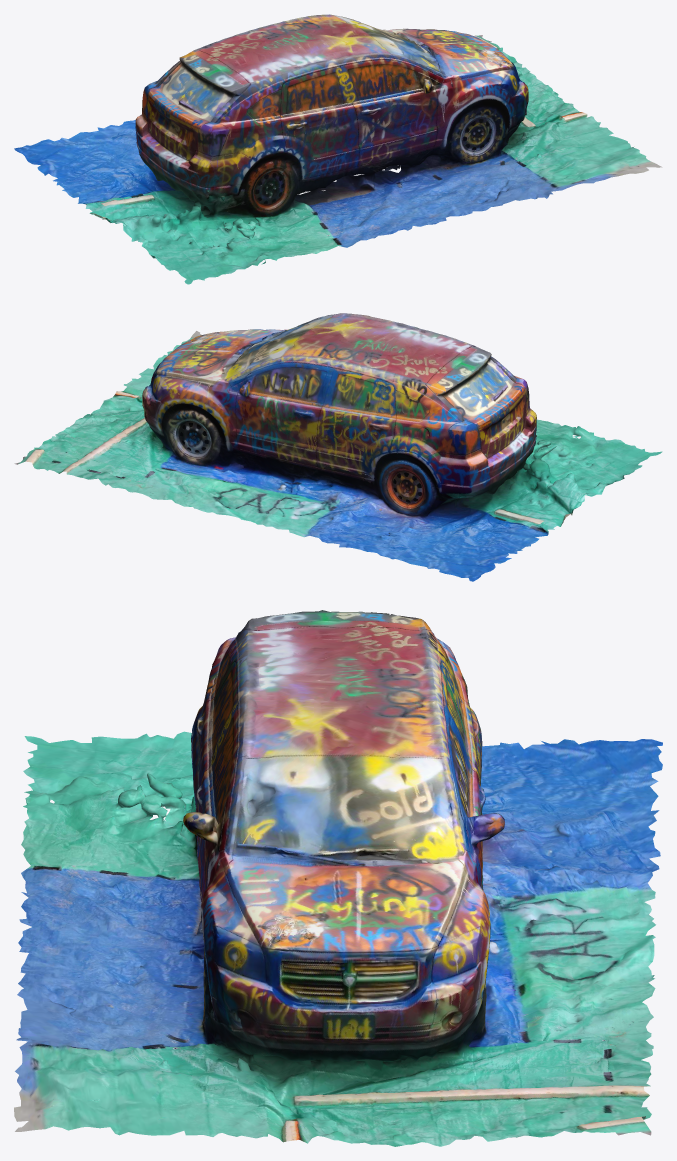
File: car_smash.gltf
3 renders of one model, top to bottom at view 1: azimuth 30°, elevation 25°; view 2: azimuth 150°, elevation 25°; view 3: azimuth 270°, elevation 25°, orthographic. The views are drawn at different scales.
Parts seen in each view (by area): view 1: odm_textured_model_geo; view 2: odm_textured_model_geo; view 3: odm_textured_model_geo.
Part boxes in pixels (box(x1,y1,x2,y2)): odm_textured_model_geo: box(14, 14, 662, 284); odm_textured_model_geo: box(14, 313, 662, 581); odm_textured_model_geo: box(14, 610, 662, 1146).
Bounding box in the file's own units: 7.94 × 2.15 × 5.36.
Materials: 24 (24 with a texture image).
